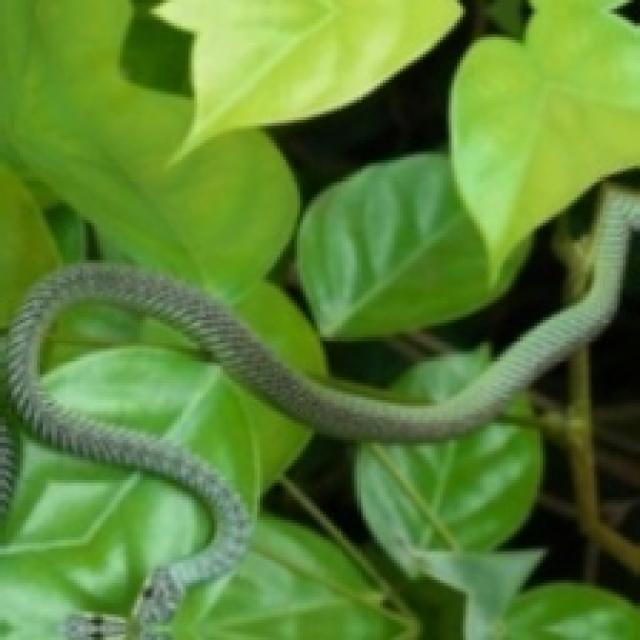paradise tree snake: (9, 189, 637, 637)
